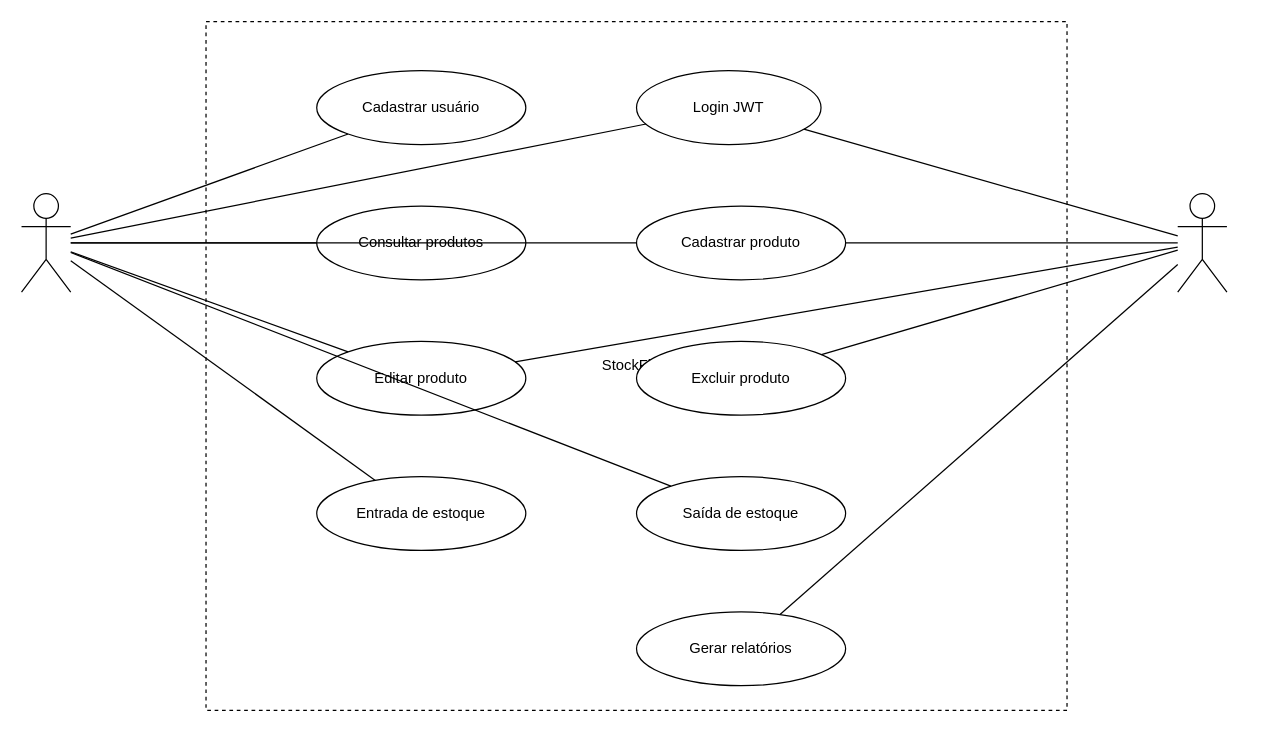
This 1269x732 diagram has some shape labels left out. Here are the shapes that lost their labels. From the top down, the centre of each, then its label:
point (45, 242): Usuário
point (1201, 242): Administrador
